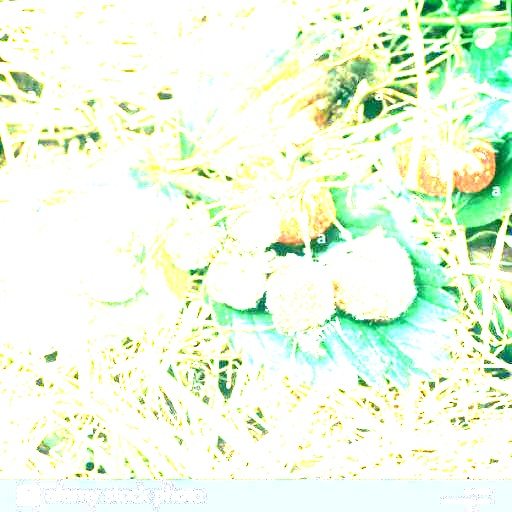Gray Mold: (317, 234, 418, 323), (265, 256, 336, 337), (206, 249, 277, 310), (167, 218, 222, 271), (221, 207, 279, 255)
